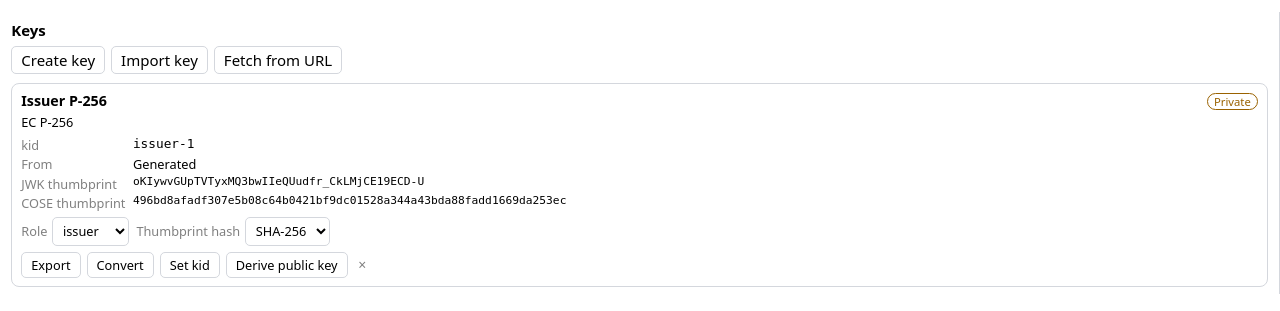
Test: key cards › auto kid sets the kid to the JWK thumbprint
Click the button "Set kid" at [190, 265], box [160,252,220,278]
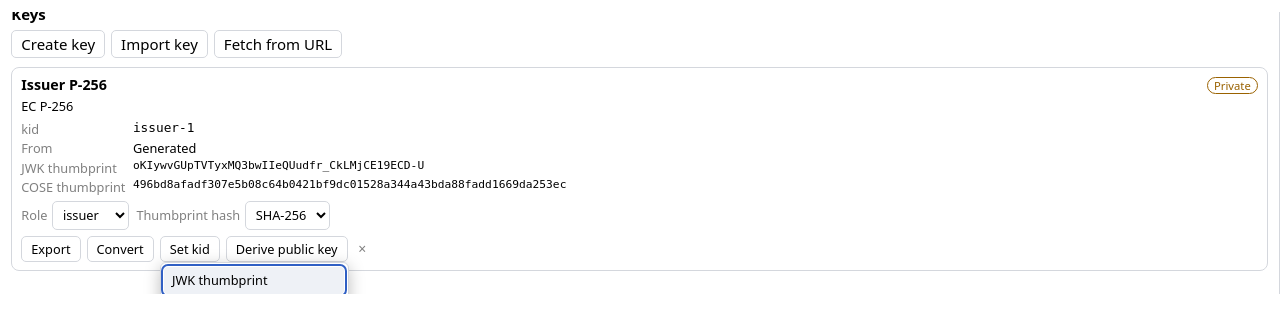
Click the menu item "JWK thumbprint" at [254, 280], box [164,267,344,294]
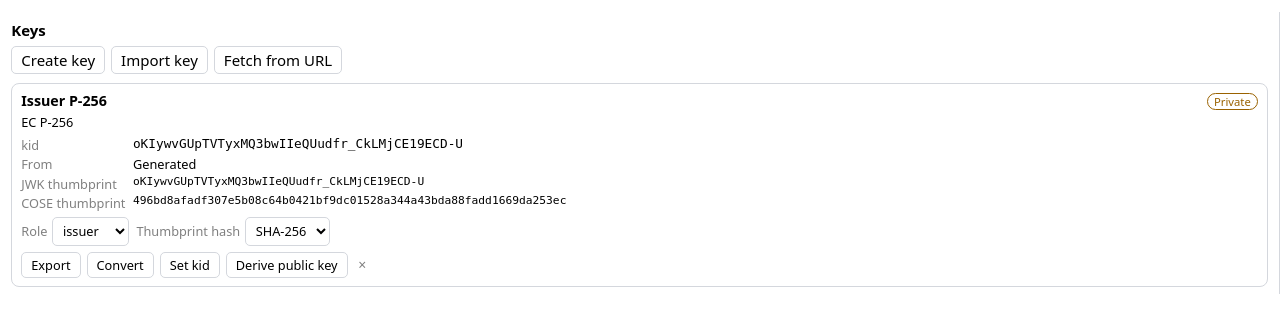
Check: the text with test id "kid" reads "oKIywvGUpTVTyxMQ3bwIIeQUudfr_CkLMjCE19ECD-U", box [133,136,463,150]
